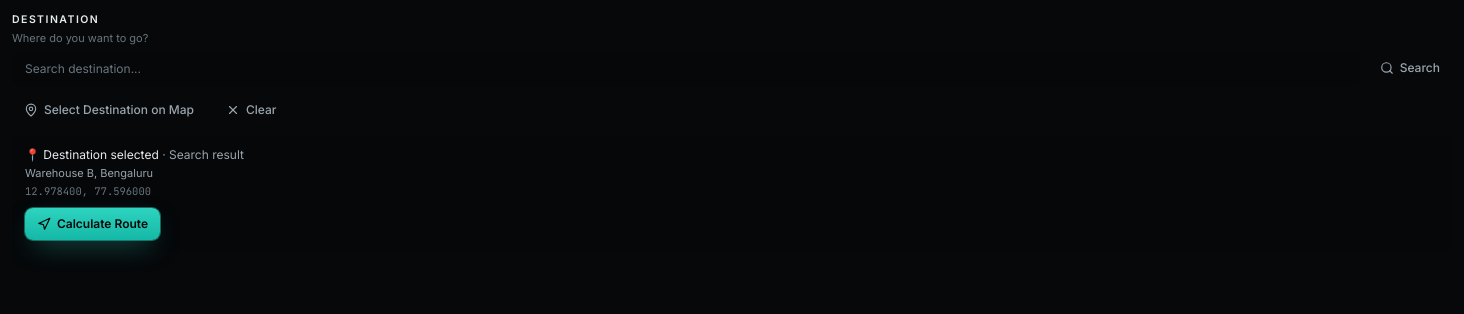
it: searching for a destination › keeps the existing destination when the search finds nothing
This screenshot has width=1464, height=314.
Type "zzzz" into the field labelled "Search destination" at (686, 69), box top-left (12, 52), bottom-right (1360, 86)
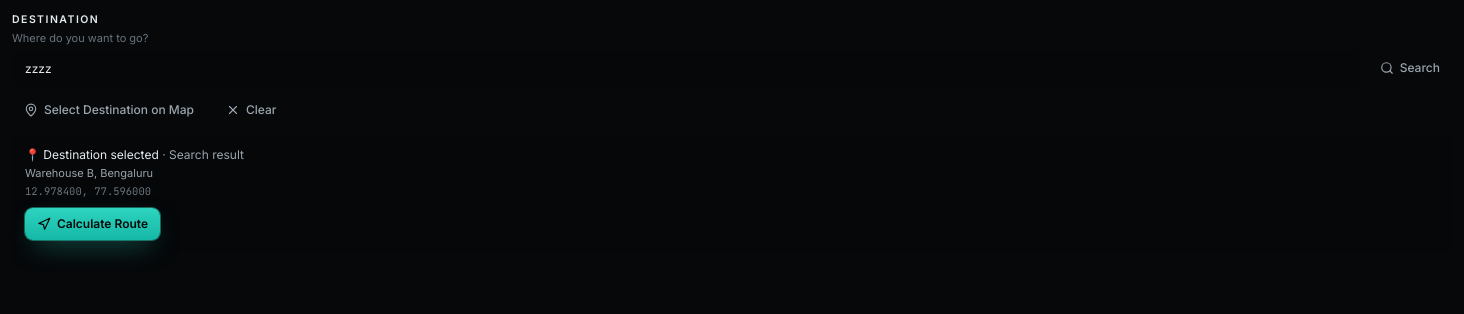
Click the button "Search" at (1410, 68), box top-left (1368, 52), bottom-right (1452, 84)
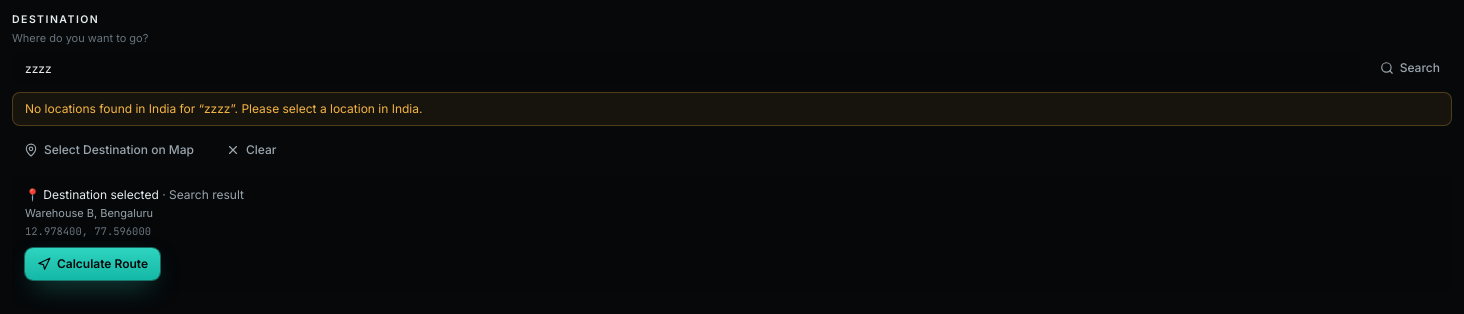
Check: the text "Warehouse B, Bengaluru" is shown, box top-left (25, 206), bottom-right (153, 220)
Check: the text "No locations found in India for “zzzz”. Please select a location in India." is shown, box top-left (12, 92), bottom-right (1452, 126)
